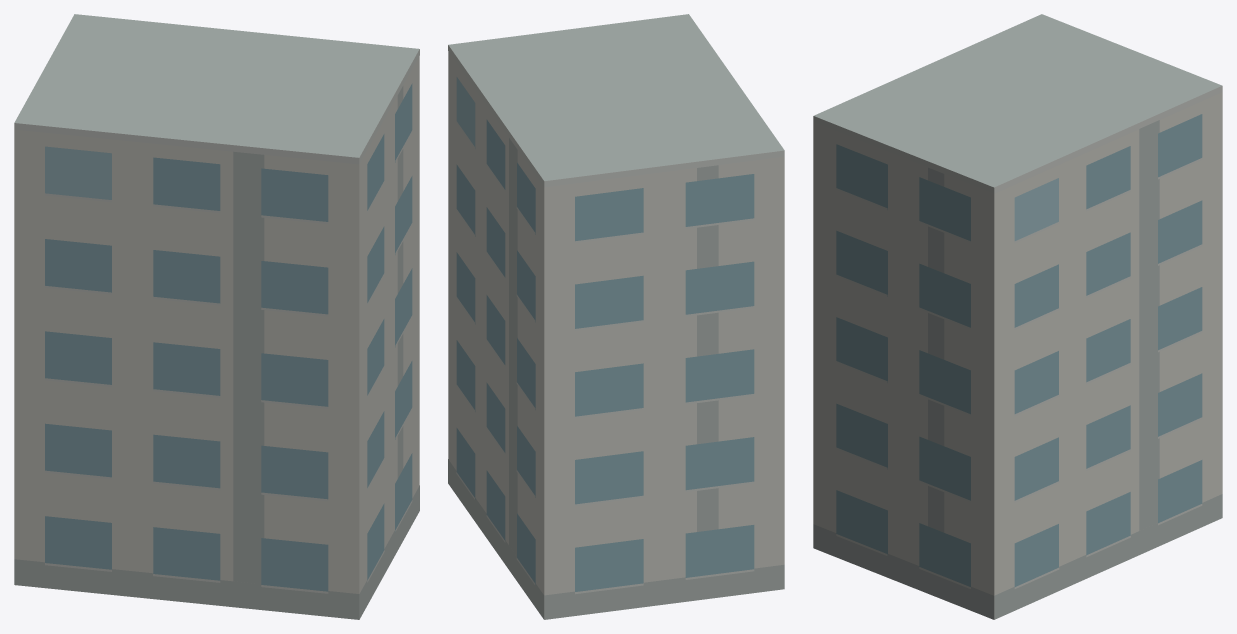
File: survey-upis-32827347.glb
3 views of the same model, side by side, from view 1: azimuth 30°, elevation 25°; view 2: azimuth 150°, elevation 25°; view 3: azimuth 270°, elevation 25° (orthographic). The views are drawn at different scales.
Visible parts, largest first — view 1: survey-upis-32827347.tmp; view 2: survey-upis-32827347.tmp; view 3: survey-upis-32827347.tmp.
Boxes of the visible parts, bbox=[...] form: survey-upis-32827347.tmp: bbox=[14, 14, 419, 619]; survey-upis-32827347.tmp: bbox=[448, 14, 784, 619]; survey-upis-32827347.tmp: bbox=[813, 14, 1222, 619].
Size of the model in its own units: 14.64 by 17 by 14.58.
